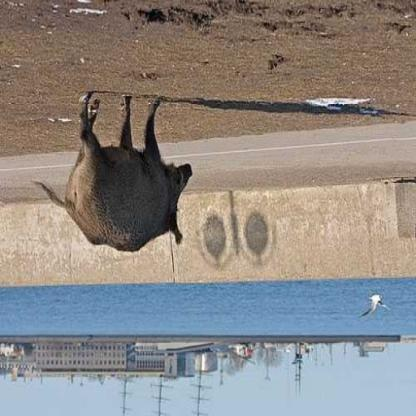boar: (22, 106, 195, 252)
